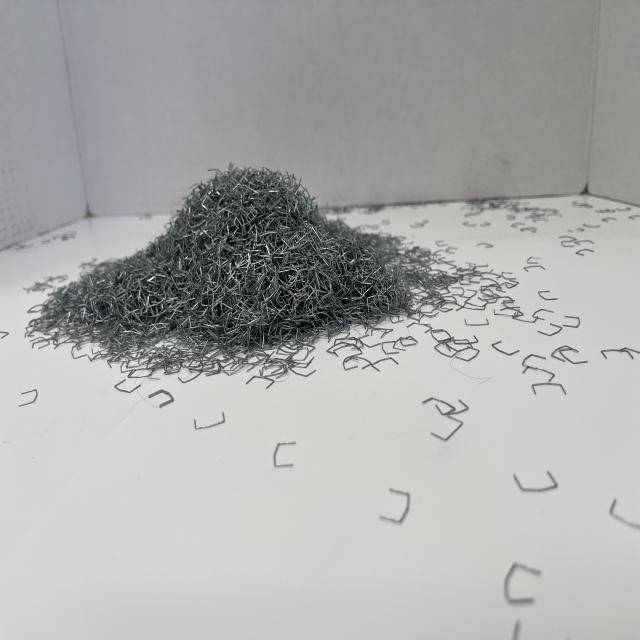staples: (24, 161, 418, 377)
